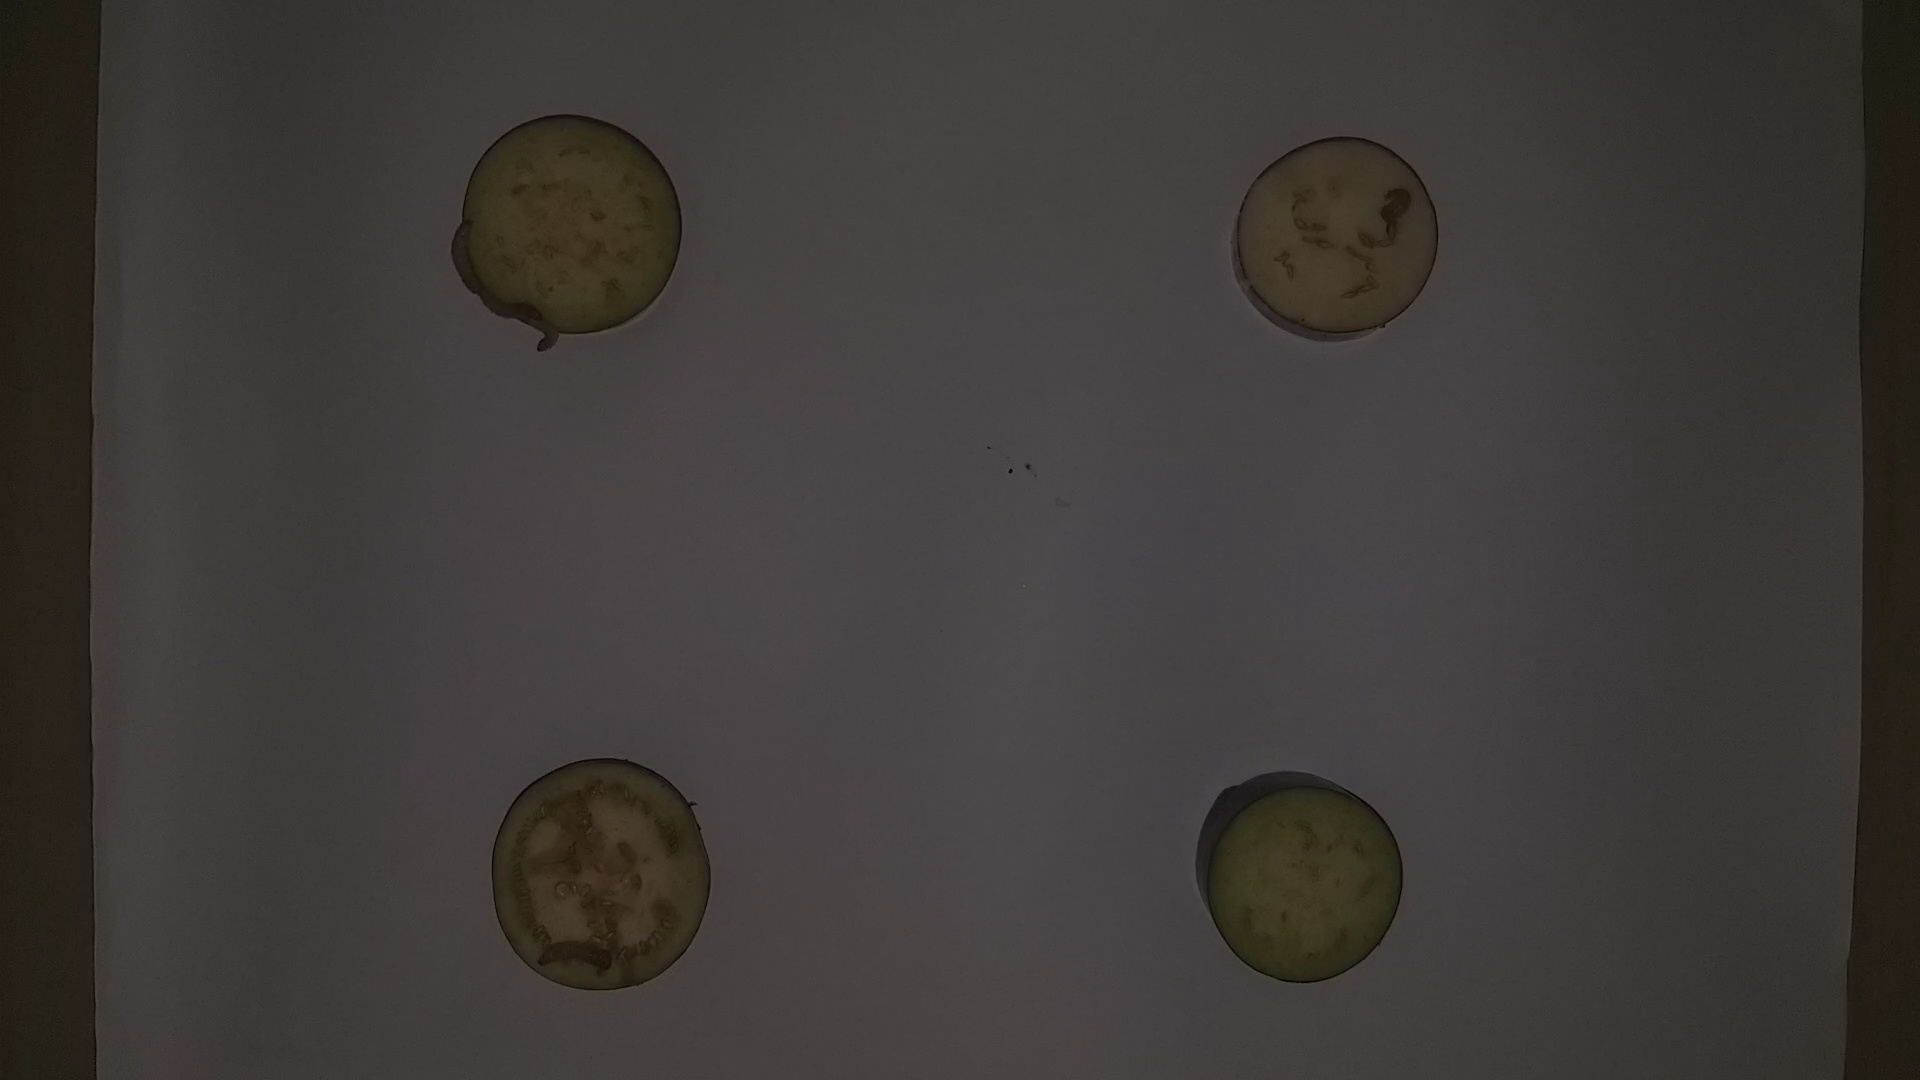efsb: (527, 938, 621, 971), (448, 215, 487, 291), (476, 286, 547, 322), (1371, 185, 1418, 225), (518, 315, 564, 352)
eggplant: (481, 750, 717, 1002), (458, 105, 696, 344), (1188, 760, 1414, 997), (1224, 127, 1451, 351)
